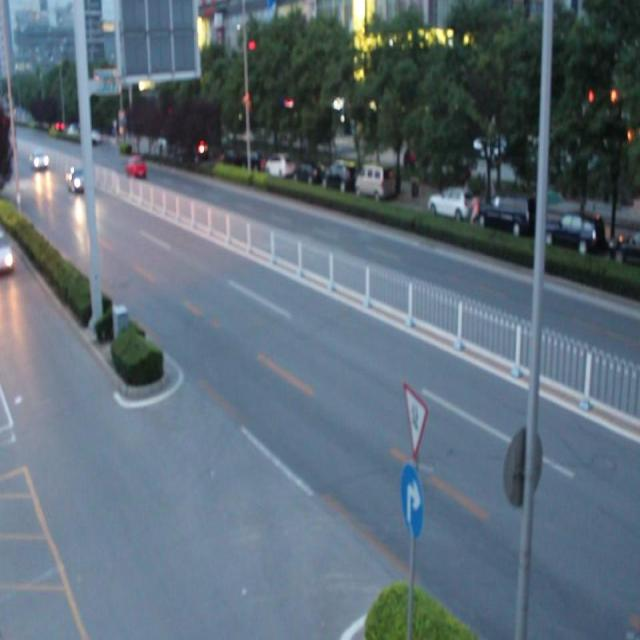car: (65, 167, 90, 190), (1, 229, 12, 270), (126, 155, 146, 177)
